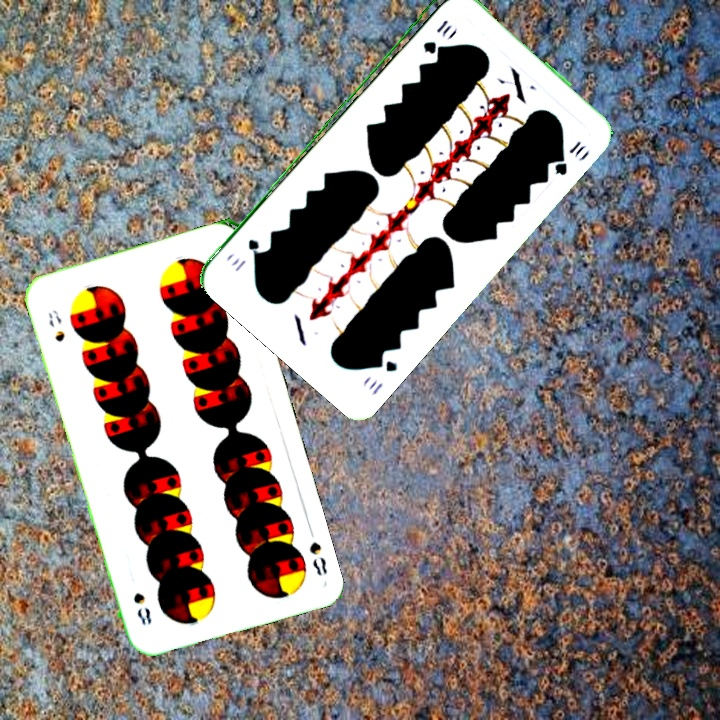G10: (365, 351, 400, 397), (419, 15, 455, 55)
S8: (305, 537, 330, 578), (44, 305, 68, 345)
